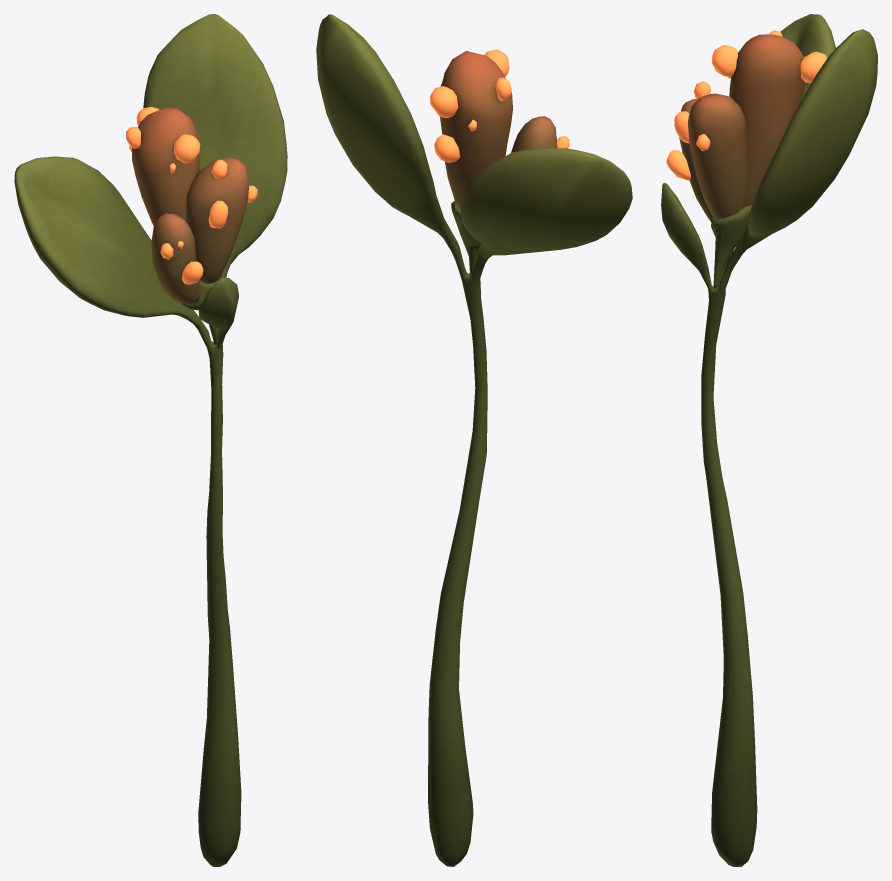
File: bog_mangrove_a.glb
3 views of the same model, side by side, from view 1: azimuth 30°, elevation 25°; view 2: azimuth 150°, elevation 25°; view 3: azimuth 270°, elevation 25° (orthographic). The views are drawn at different scales.
Visible parts, largest first — view 1: SM_XBOG_DRS_MangroveSeedling_01A; view 2: SM_XBOG_DRS_MangroveSeedling_01A; view 3: SM_XBOG_DRS_MangroveSeedling_01A.
Boxes of the visible parts, x1,y1,x2,y2 form: SM_XBOG_DRS_MangroveSeedling_01A: (14,14,287,866); SM_XBOG_DRS_MangroveSeedling_01A: (316,14,632,866); SM_XBOG_DRS_MangroveSeedling_01A: (661,14,877,866).
Size of the model in its own units: 0.4612 by 1.33 by 0.3031.
1 material, 1 textured.
